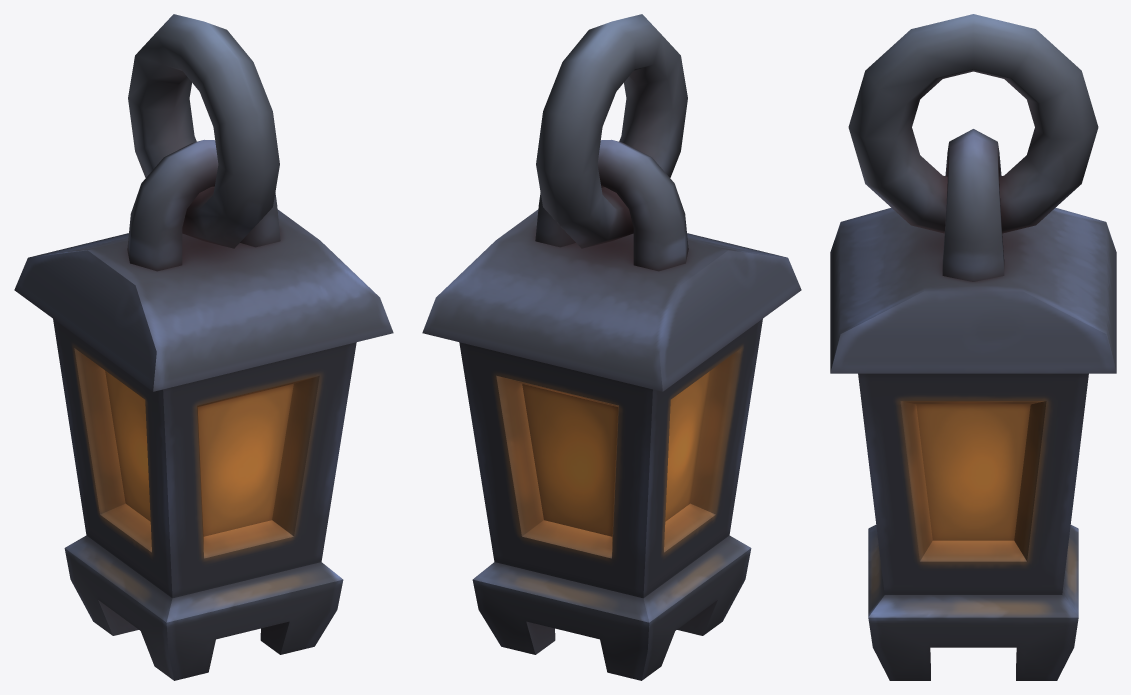
Rendered from lantern.fbx.
The picture shows the model from 3 angles, left to right: view 1: azimuth 30°, elevation 25°; view 2: azimuth 150°, elevation 25°; view 3: azimuth 270°, elevation 25°; orthographic projection. The views are drawn at different scales.
Visible parts, largest first — view 1: lantern; view 2: lantern; view 3: lantern.
Part boxes in pixels (x1=…): lantern: x1=14, y1=14, x2=393, y2=680; lantern: x1=422, y1=14, x2=801, y2=680; lantern: x1=830, y1=14, x2=1116, y2=680.
Size of the model in its own units: 45.42 by 111 by 45.42.
